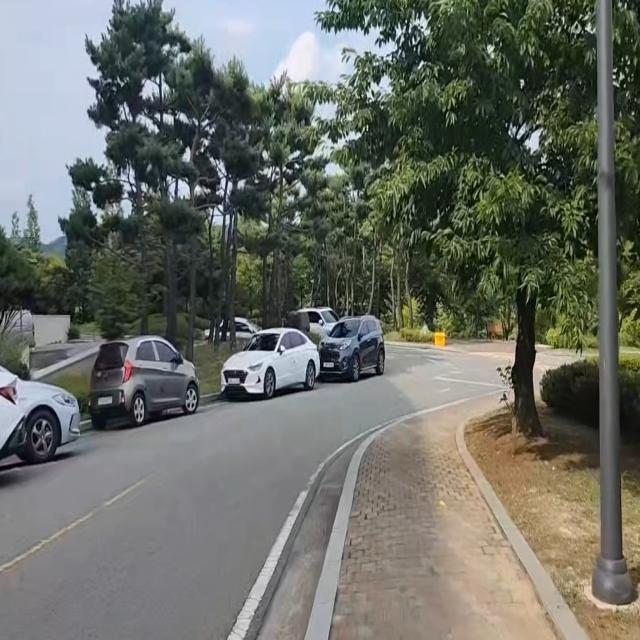obstacle: (217, 310, 391, 409), (84, 327, 201, 437), (0, 353, 84, 483)
road: (0, 344, 509, 640)
sidewalk: (306, 388, 589, 640)
